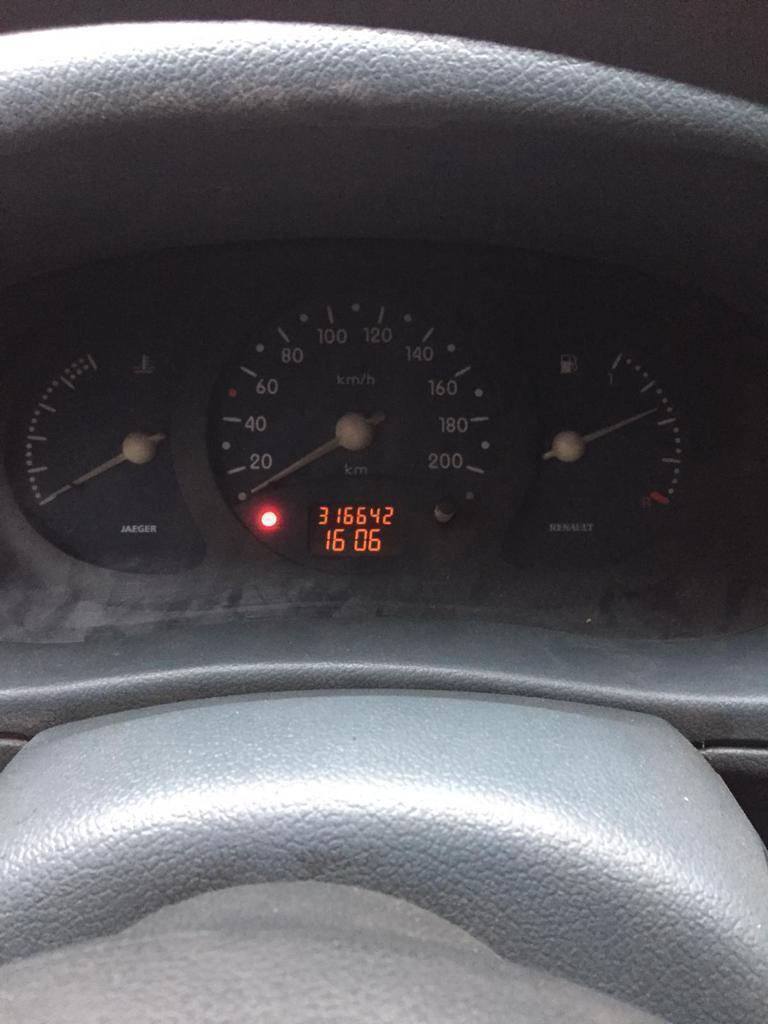0: (354, 527, 367, 551)
1: (324, 528, 330, 551), (335, 505, 341, 524)
2: (383, 506, 393, 525)
3: (318, 506, 328, 525)
4: (369, 507, 381, 523)
6: (332, 527, 345, 551), (369, 528, 381, 551), (355, 505, 366, 526), (343, 505, 354, 524)
odometer: (306, 499, 404, 558)
